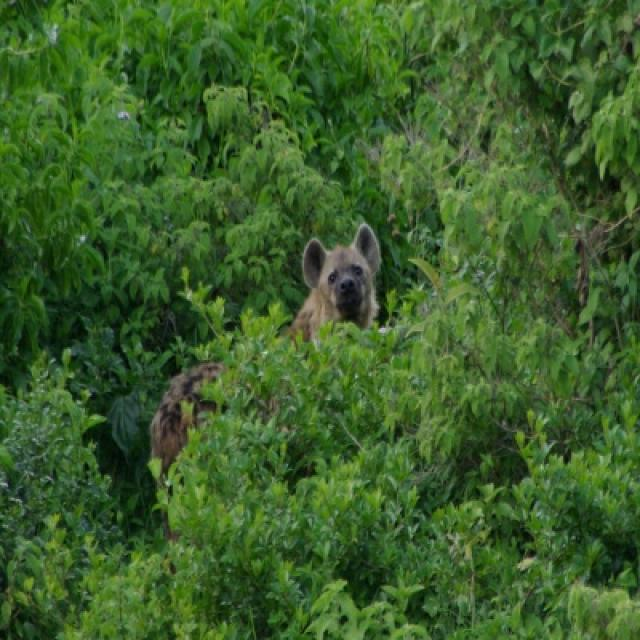hyena: (291, 222, 379, 338)
